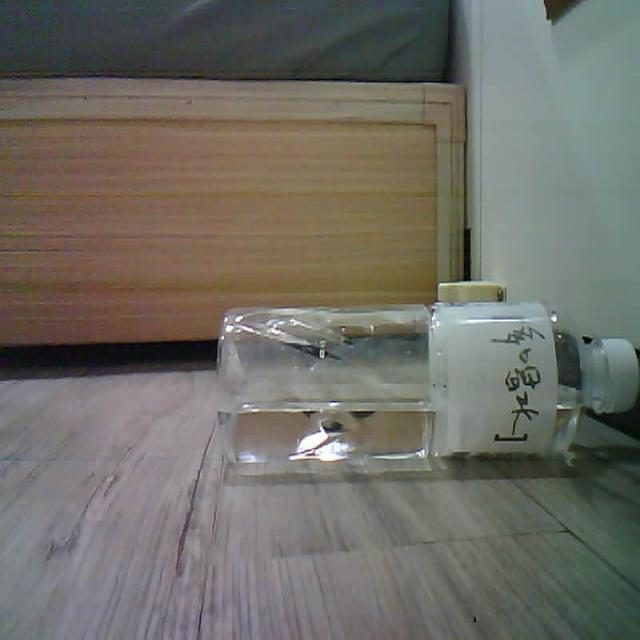bottle: (218, 302, 639, 462)
